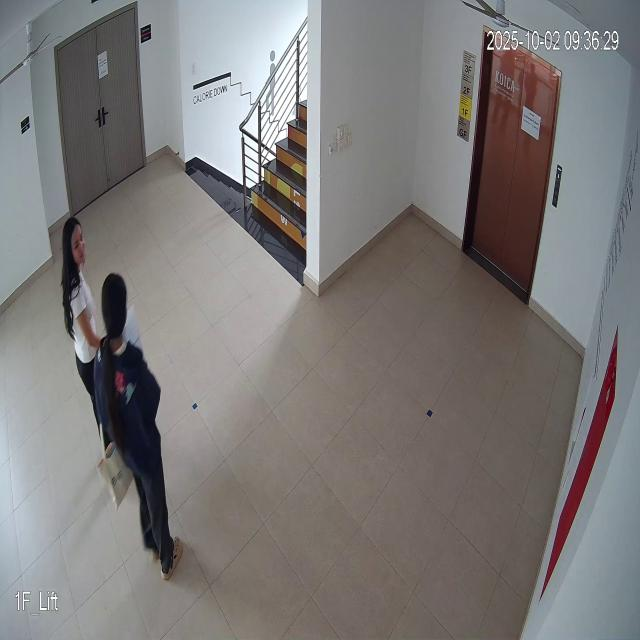face: (56, 210, 89, 274)
